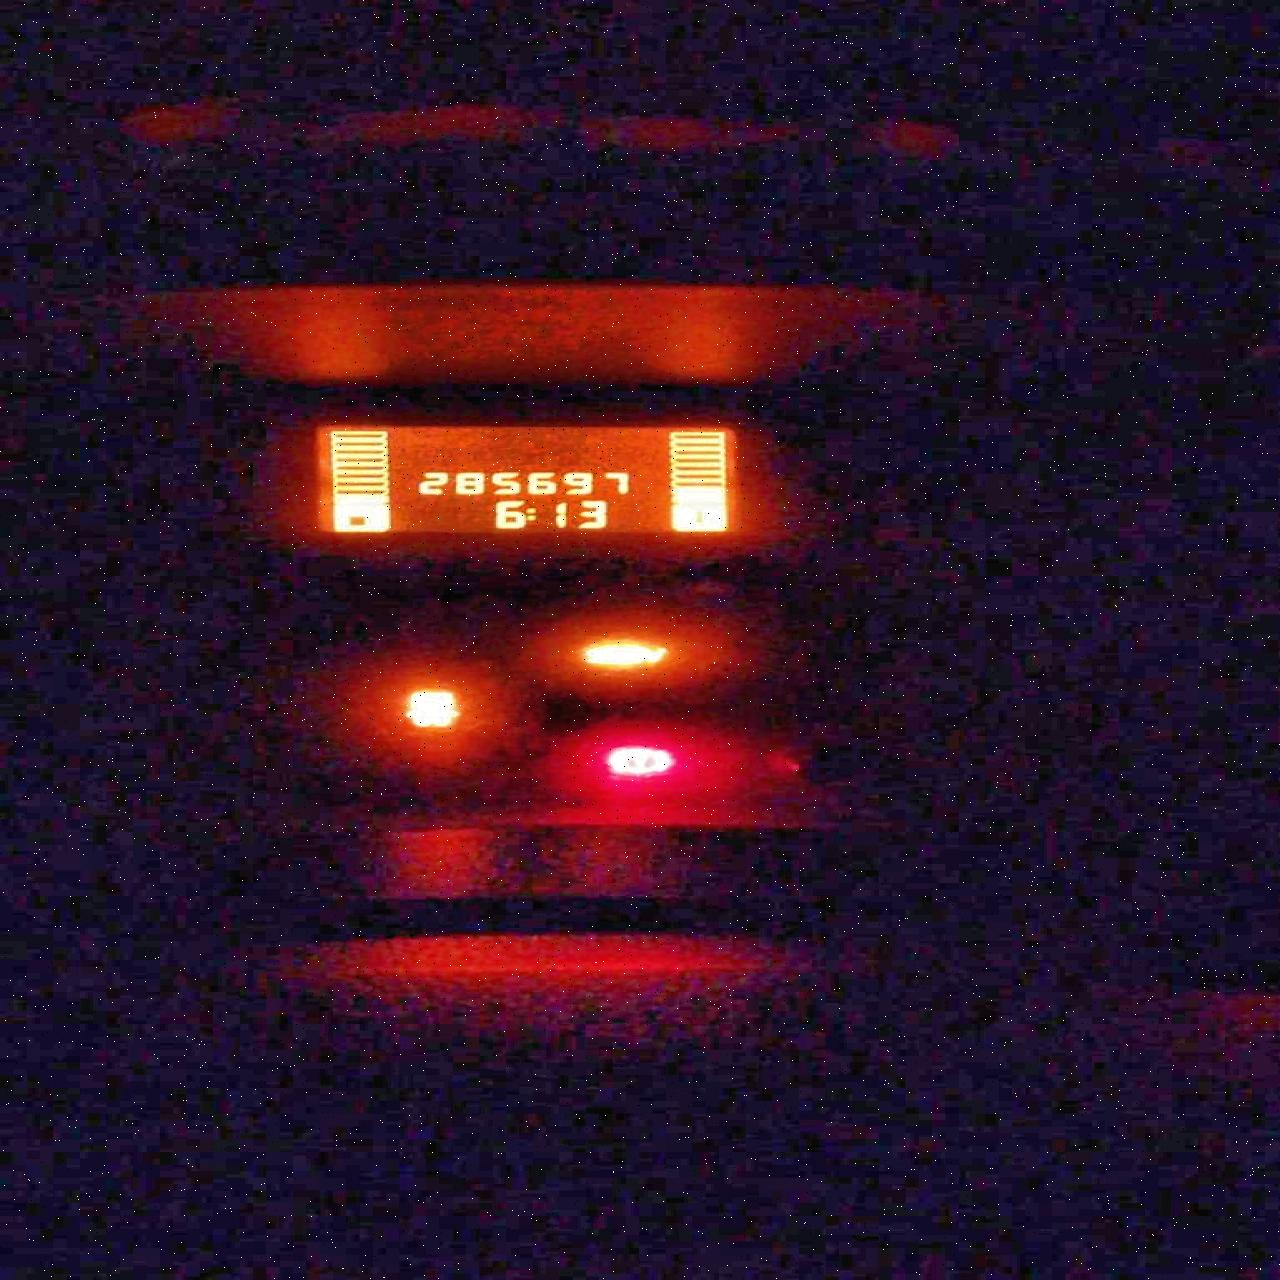1: (551, 502, 566, 529)
2: (416, 471, 448, 495)
3: (574, 499, 607, 529)
5: (488, 471, 519, 495)
6: (492, 499, 526, 529), (524, 471, 558, 495)
7: (602, 472, 629, 493)
8: (452, 471, 483, 495)
9: (560, 471, 592, 495)
X: (523, 508, 536, 520)
odometer: (309, 422, 742, 536)
